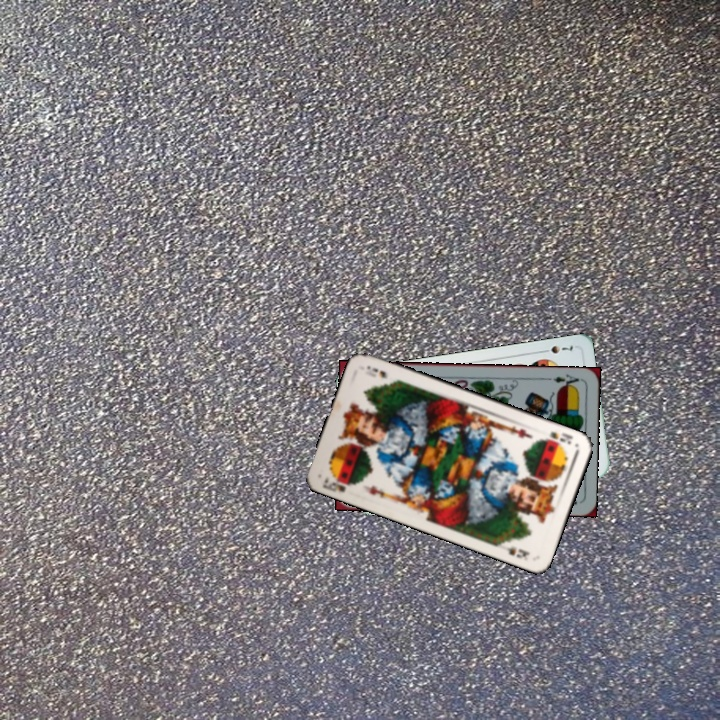EA: (549, 370, 583, 390)
S7: (537, 341, 576, 356)
SK: (319, 472, 358, 495), (546, 427, 575, 447)
